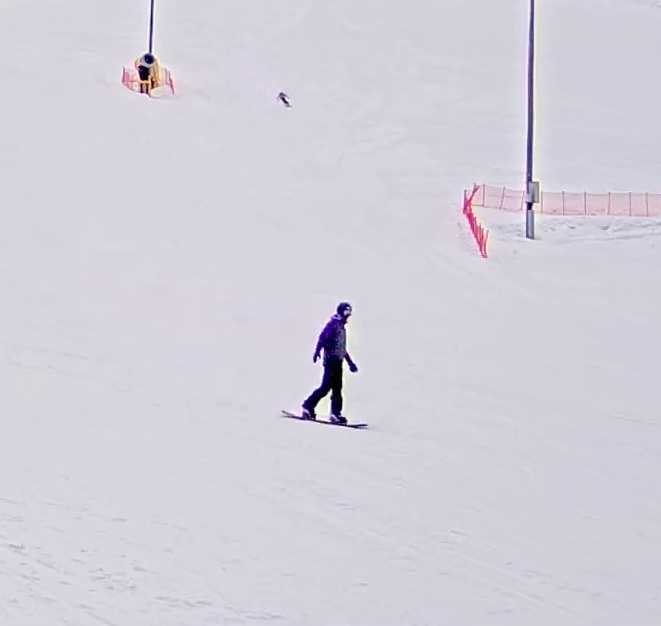snowboarder: (281, 293, 368, 430)
